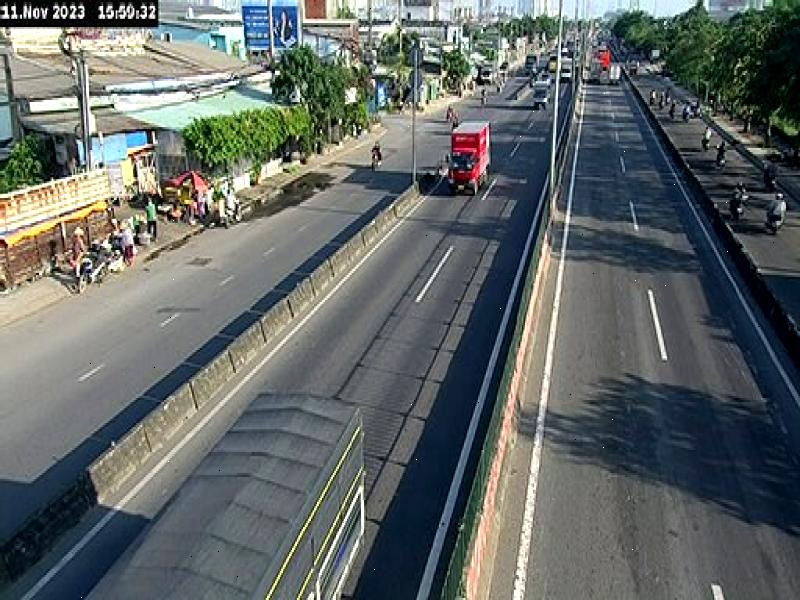truck: (448, 116, 495, 198)
